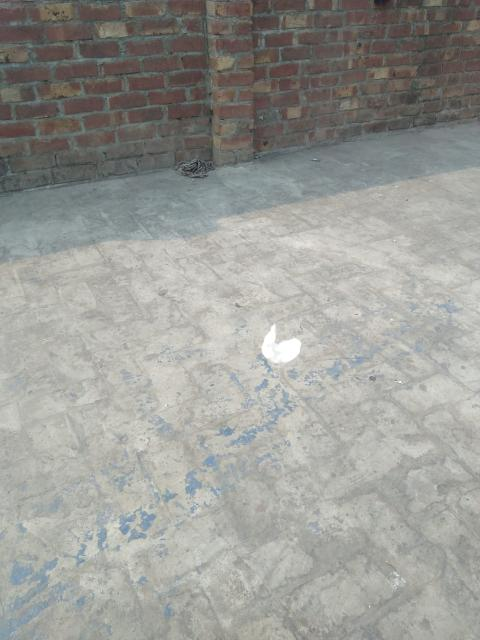Roto: (260, 322, 302, 364)
